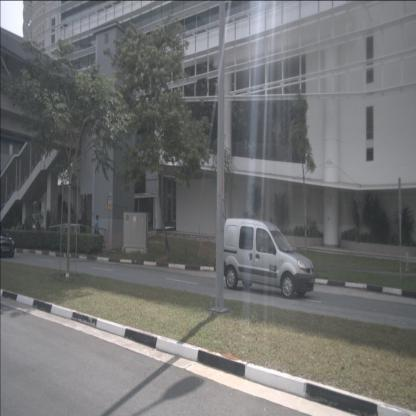human-pedestrian-adult: (94, 215, 100, 247), (78, 209, 82, 230)
vehicle-car: (219, 218, 315, 300), (0, 224, 15, 258)
